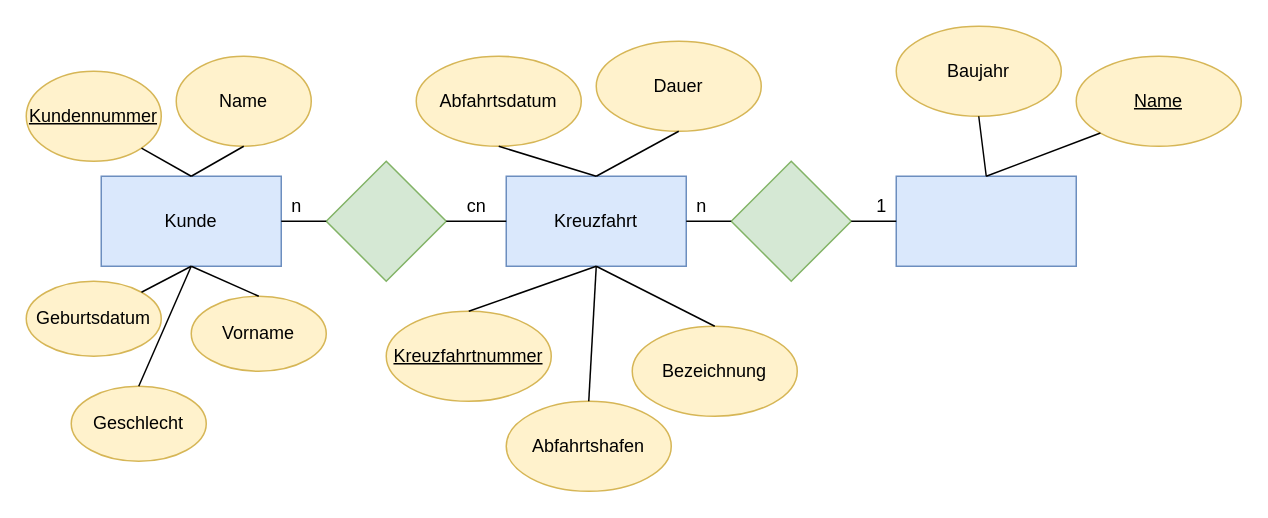
The diagram is 1268 pixels wide and 518 high, and some of its shapes have lost their labels. The shapes that lost their labels are listed below. From the top down, each one's centre as x and y in pixels, then its label:
point 385,220: bucht
point 790,220: benötigt
point 985,220: Schiff
